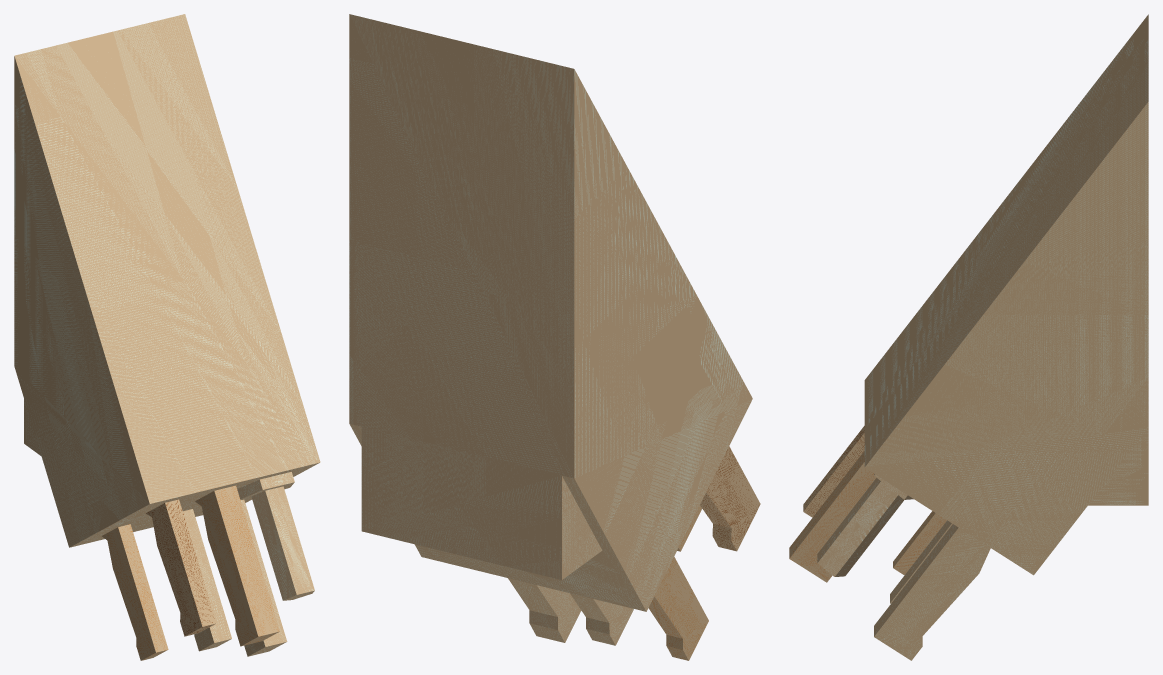
3 renders of one model, left to right at view 1: azimuth 30°, elevation 25°; view 2: azimuth 150°, elevation 25°; view 3: azimuth 270°, elevation 25°, orthographic. The views are drawn at different scales.
Visible parts, largest first — view 1: kitchen knife set; view 2: kitchen knife set; view 3: kitchen knife set.
Boxes of the visible parts, bbox=[...] form: kitchen knife set: bbox=[14, 14, 320, 660]; kitchen knife set: bbox=[349, 14, 760, 660]; kitchen knife set: bbox=[789, 14, 1148, 660].
Bounding box in the file's own units: 4.5 × 13.79 × 7.82.
